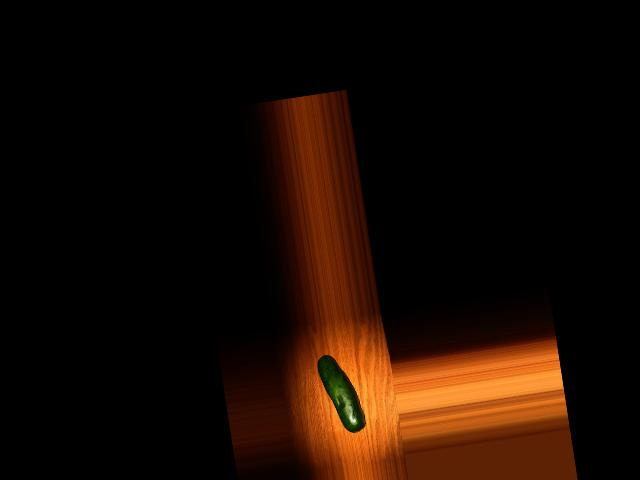cucumber: (316, 350, 366, 435)
